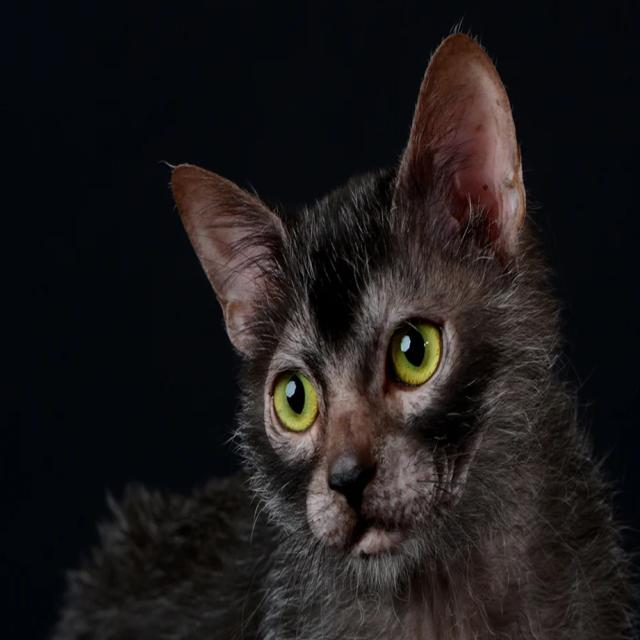Lykoi: (38, 24, 640, 640)
